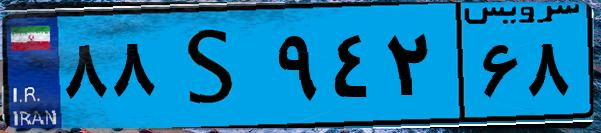2: (385, 28, 445, 110)
4: (330, 28, 385, 110)
6: (475, 38, 525, 113)
8: (57, 26, 110, 100), (525, 38, 570, 115), (110, 28, 158, 98)
9: (270, 28, 330, 110)
S: (158, 12, 270, 120)
